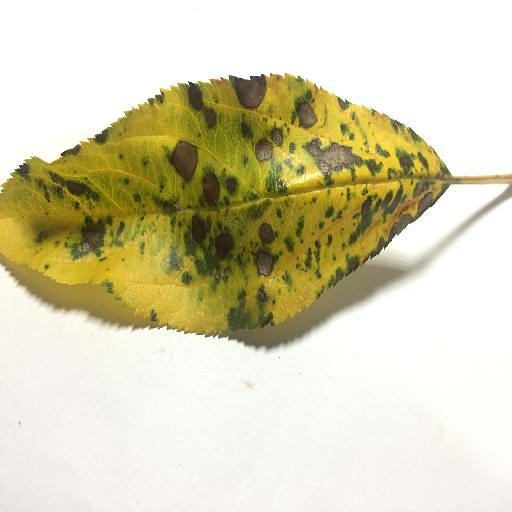Brown_Spot: (167, 145, 201, 179), (307, 145, 357, 168), (229, 80, 260, 105), (46, 176, 86, 194), (79, 225, 107, 250), (296, 105, 319, 126), (212, 232, 233, 254), (201, 175, 216, 201), (389, 214, 406, 236), (256, 255, 273, 275), (252, 147, 274, 161), (258, 224, 275, 242), (198, 110, 218, 124), (194, 221, 205, 240), (186, 91, 202, 104), (400, 157, 417, 168), (359, 202, 373, 215), (420, 195, 431, 209), (272, 134, 286, 144), (226, 181, 236, 193)
